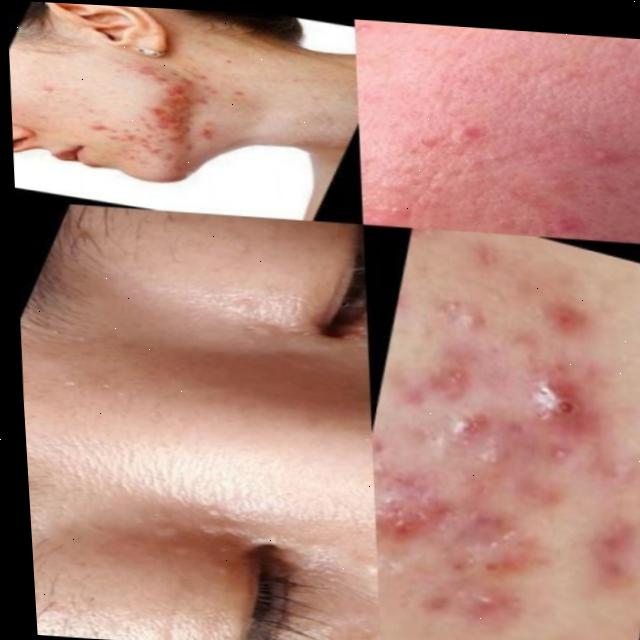Acne: (388, 255, 639, 637), (374, 36, 640, 181), (157, 482, 364, 613), (113, 71, 214, 146)
